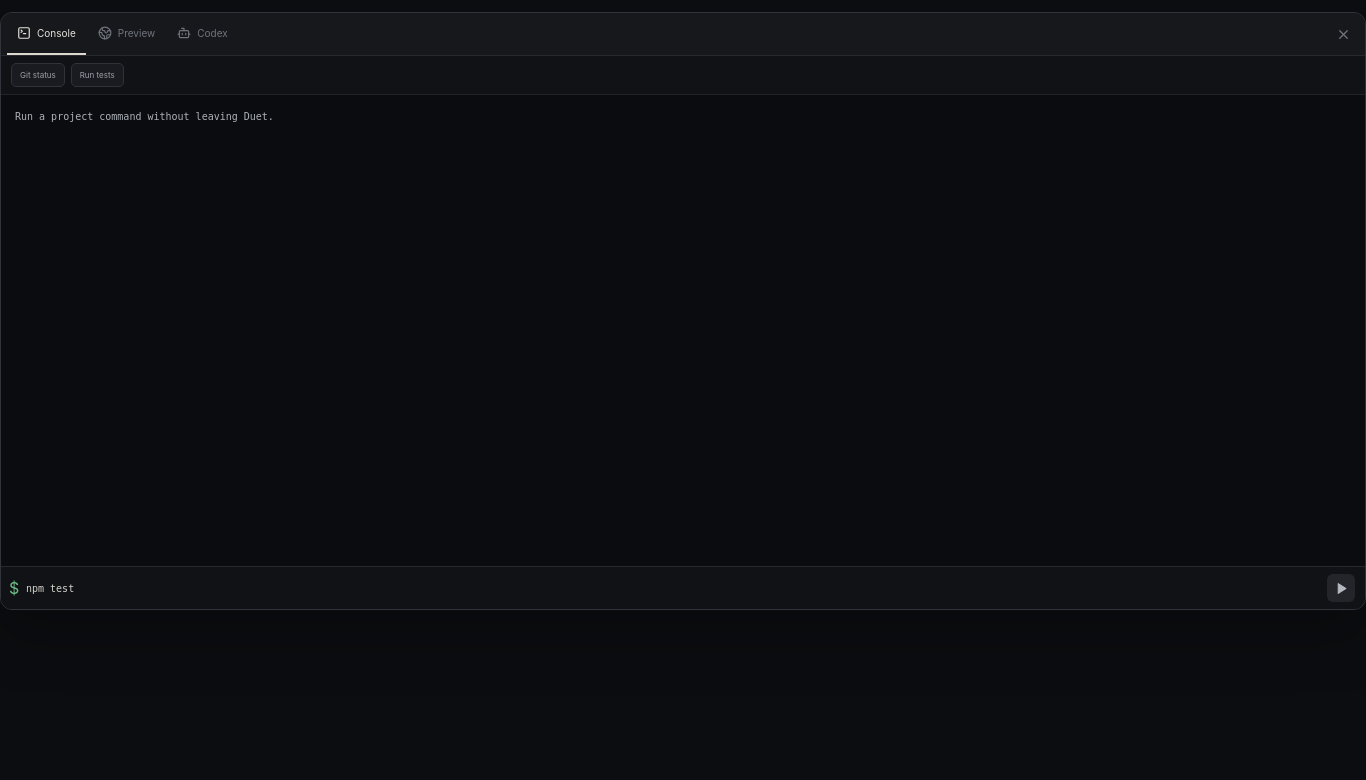
Test: WorkspaceTools › runs a project command and renders its bounded result
Step 1. Click the button "Git status" → (38,75), box [11,63,65,87]
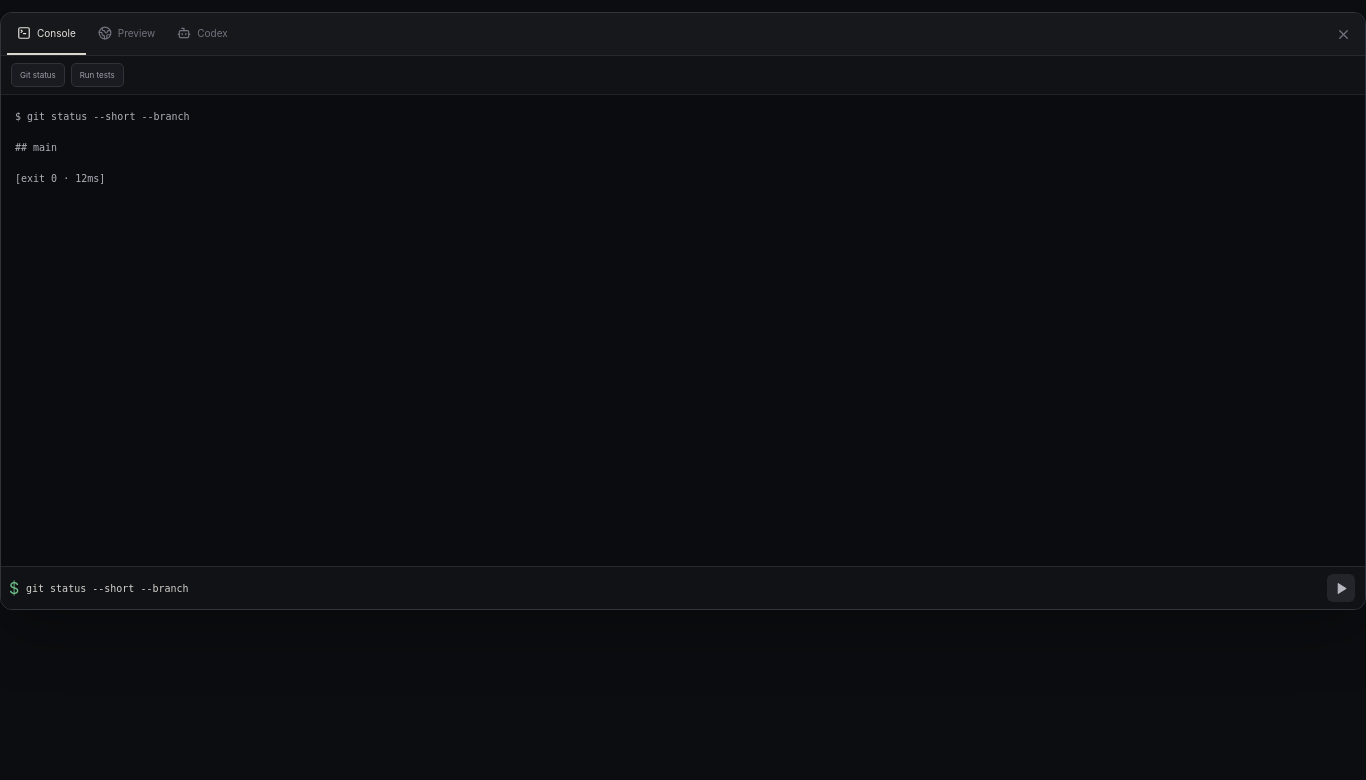
Now the text "$ git status --short --branch ## main [exit 0 · 12ms]" is shown
